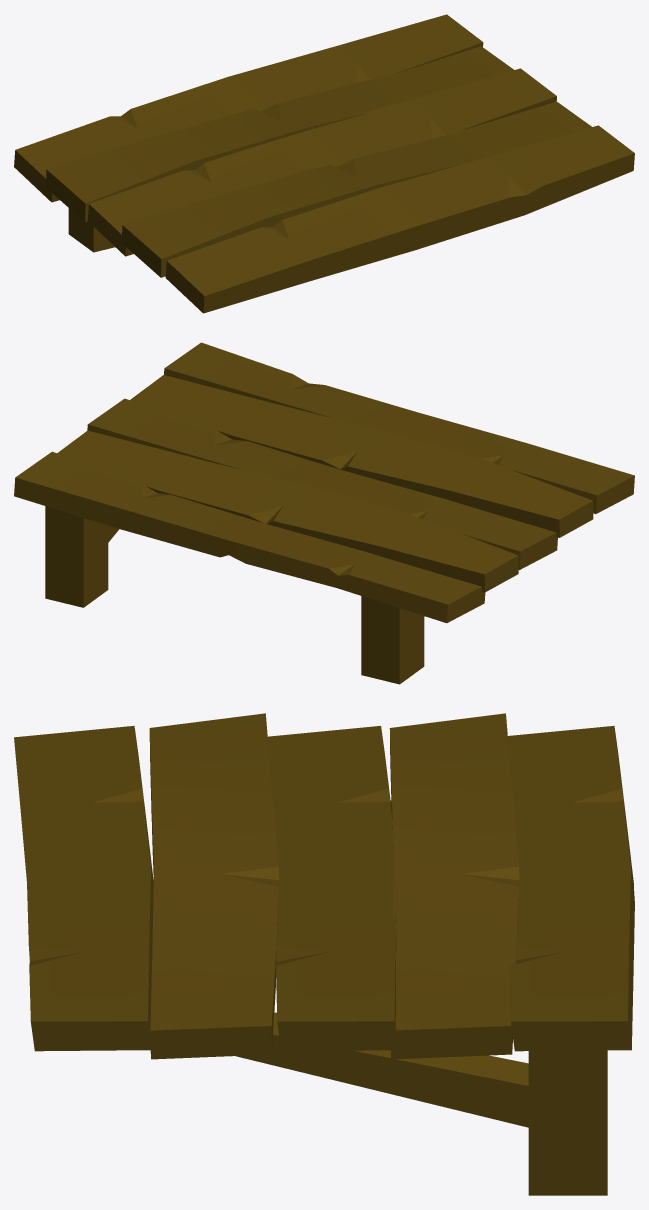
The model's file is SM_WoodenFloor_LOD0.fbx.
3 views of the same model, one above another, from view 1: azimuth 30°, elevation 25°; view 2: azimuth 150°, elevation 25°; view 3: azimuth 270°, elevation 25° (orthographic). The views are drawn at different scales.
Parts seen in each view (by area): view 1: SM_WoodFlor_LOD0; view 2: SM_WoodFlor_LOD0; view 3: SM_WoodFlor_LOD0.
Boxes of the visible parts, left/top/right/bottom form: SM_WoodFlor_LOD0: left=14, top=14, right=634, bottom=313; SM_WoodFlor_LOD0: left=14, top=342, right=634, bottom=684; SM_WoodFlor_LOD0: left=14, top=713, right=634, bottom=1195.
Size of the model in its own units: 6.72 by 1.78 by 5.2.
